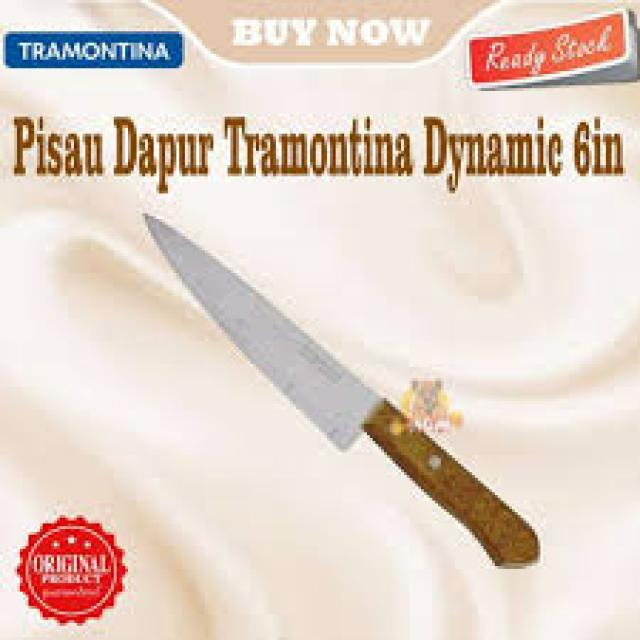Knife: (142, 213, 538, 566)
